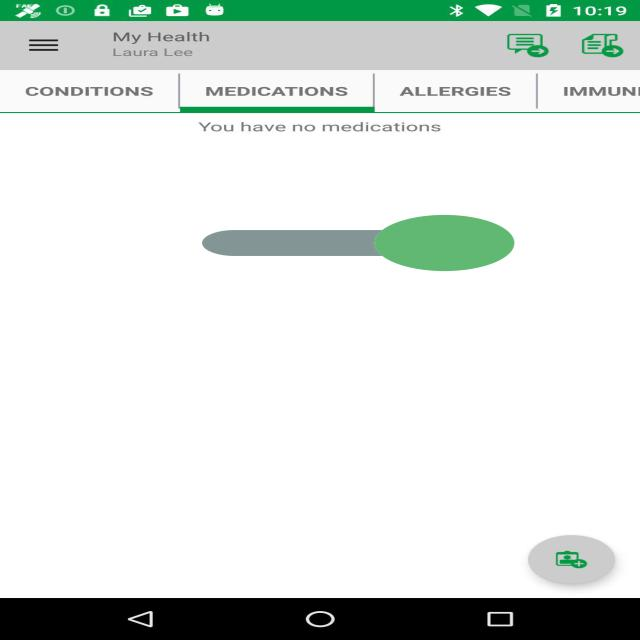social proof: (202, 180, 514, 306)
